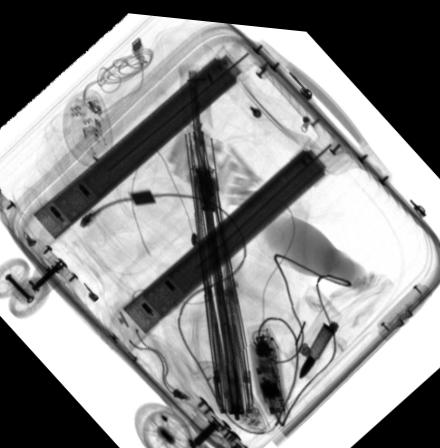Bullet: (298, 314, 336, 374)
